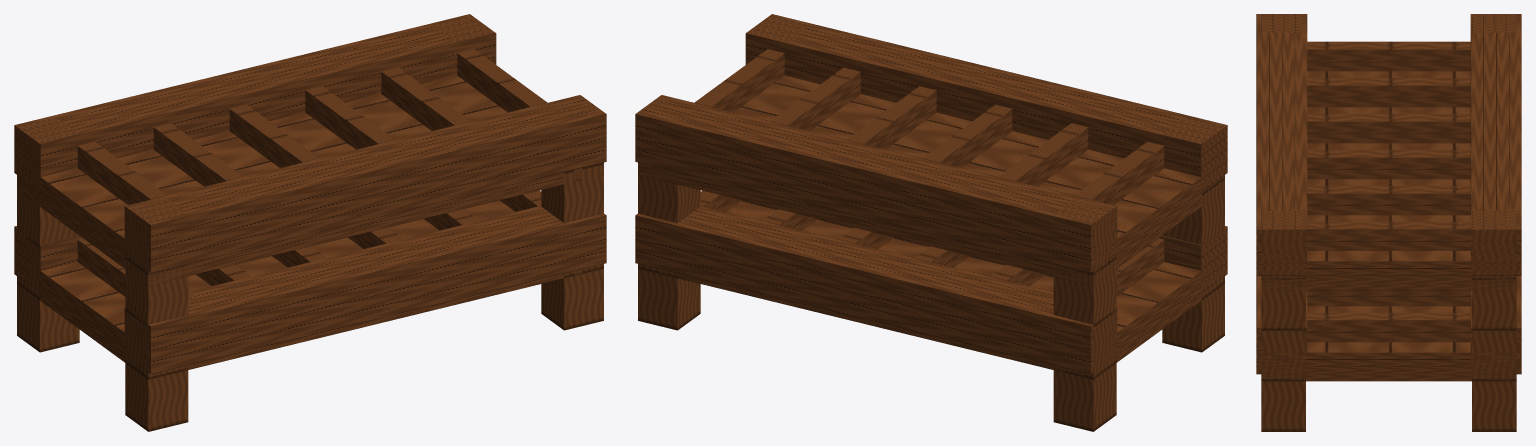
Rendered from suburban-outbreak-interiors-wardrobe-shoe-rack-d51bcc83__20012.glb.
3 views of the same model, side by side, from view 1: azimuth 30°, elevation 25°; view 2: azimuth 150°, elevation 25°; view 3: azimuth 270°, elevation 25° (orthographic). The views are drawn at different scales.
Visible parts, largest first — view 1: wardrobe-shoe-rack; view 2: wardrobe-shoe-rack; view 3: wardrobe-shoe-rack.
Part boxes in pixels (x1=…): wardrobe-shoe-rack: x1=14, y1=14, x2=606, y2=431; wardrobe-shoe-rack: x1=635, y1=14, x2=1227, y2=431; wardrobe-shoe-rack: x1=1256, y1=14, x2=1521, y2=431.
Bounding box in the file's own units: 0.8 × 0.35 × 0.416.
1 material, 1 textured.
